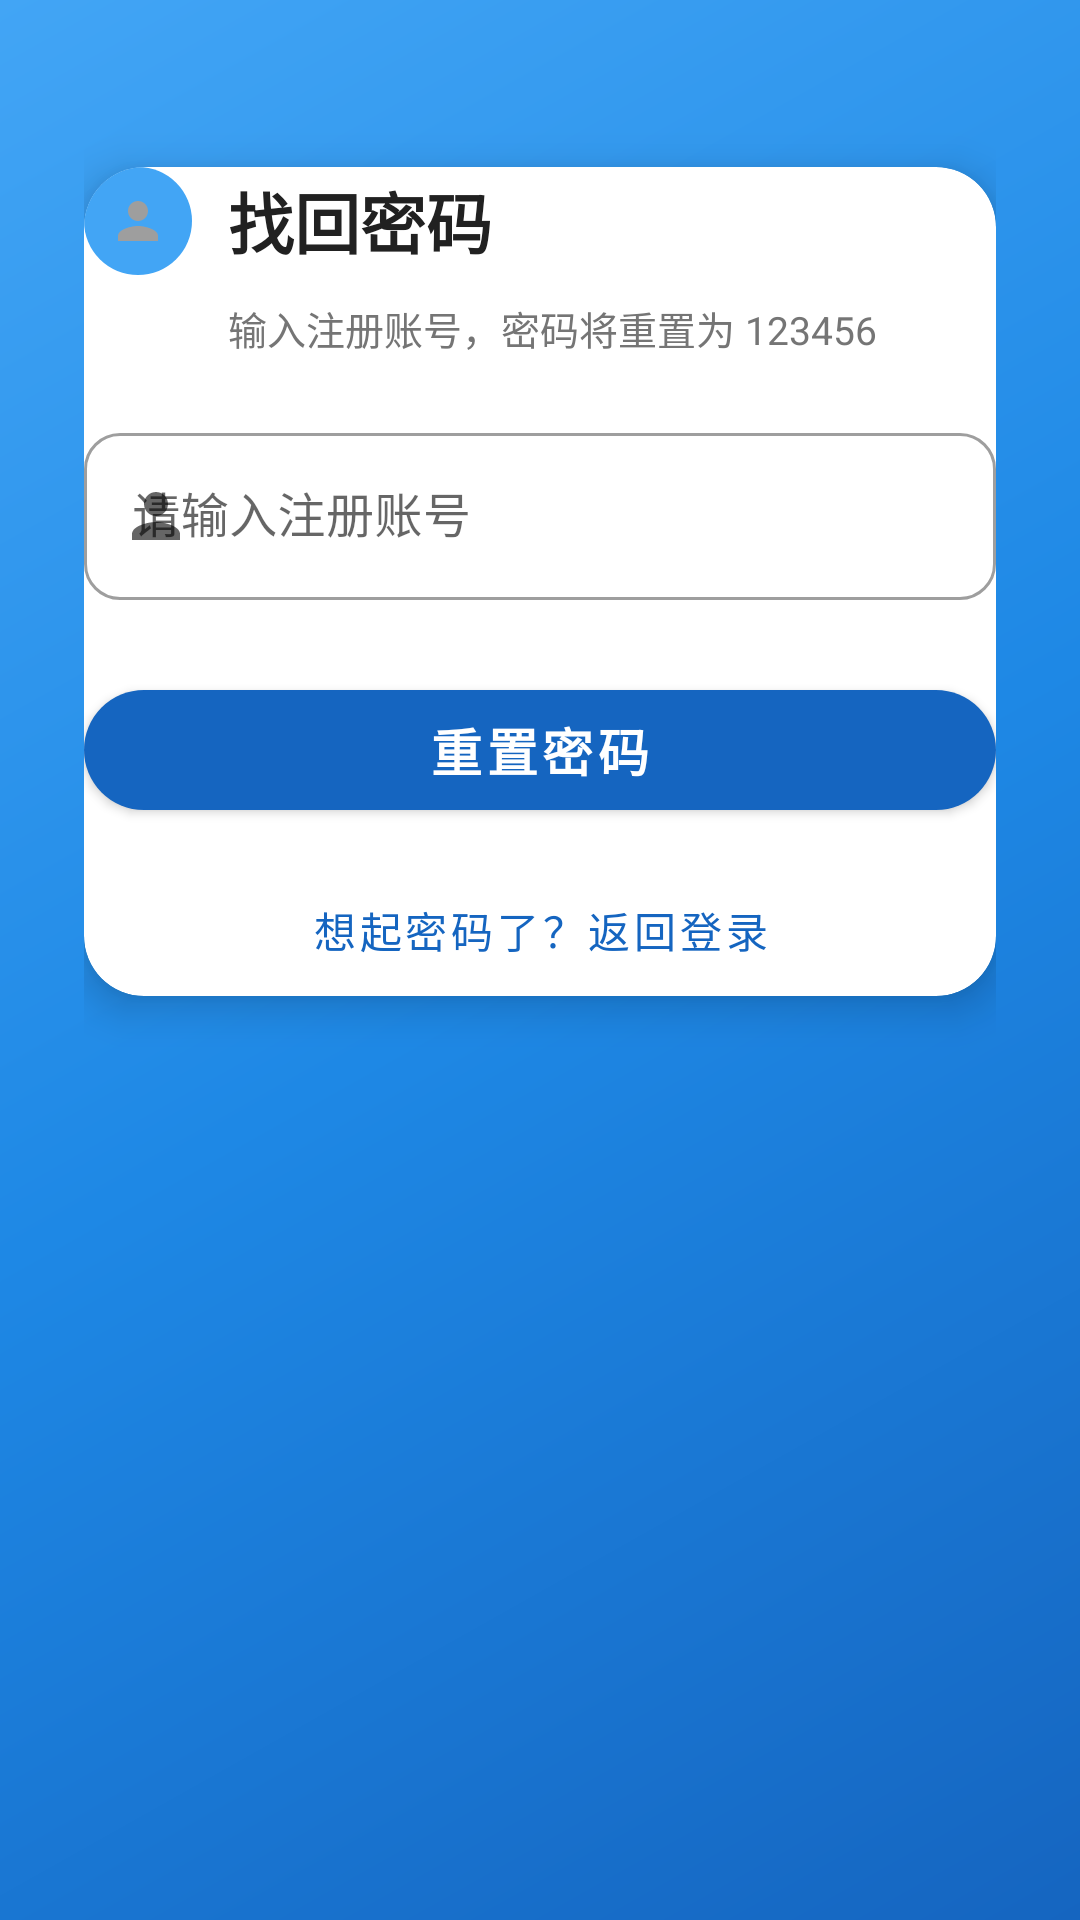

Icon click points for this 1080 × 1920 phone screenshot, format point (x, y):
person: point (138, 221)
